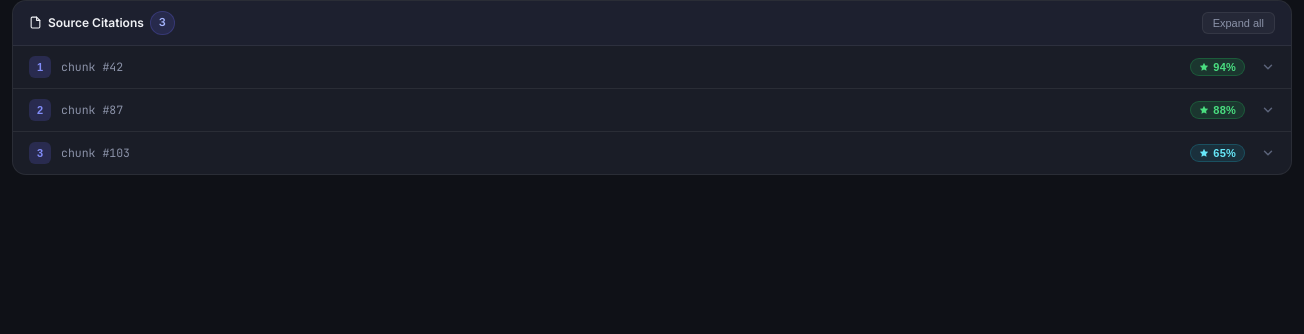
CitationList Component › expands all cards when "Expand all" is clicked
Click the button "Expand all": (1238, 23) [1202, 12, 1275, 34]
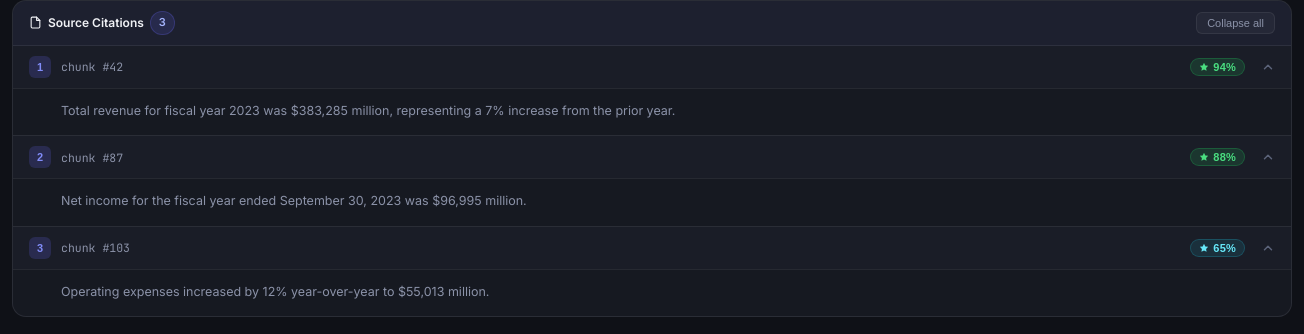
Check: the text "Total revenue for fiscal year 2023" is shown, box [61, 103, 675, 118]
Check: the text "Net income for the fiscal year" is shown, box [61, 193, 527, 208]
Check: the text "Operating expenses increased" is shown, box [61, 284, 490, 299]
